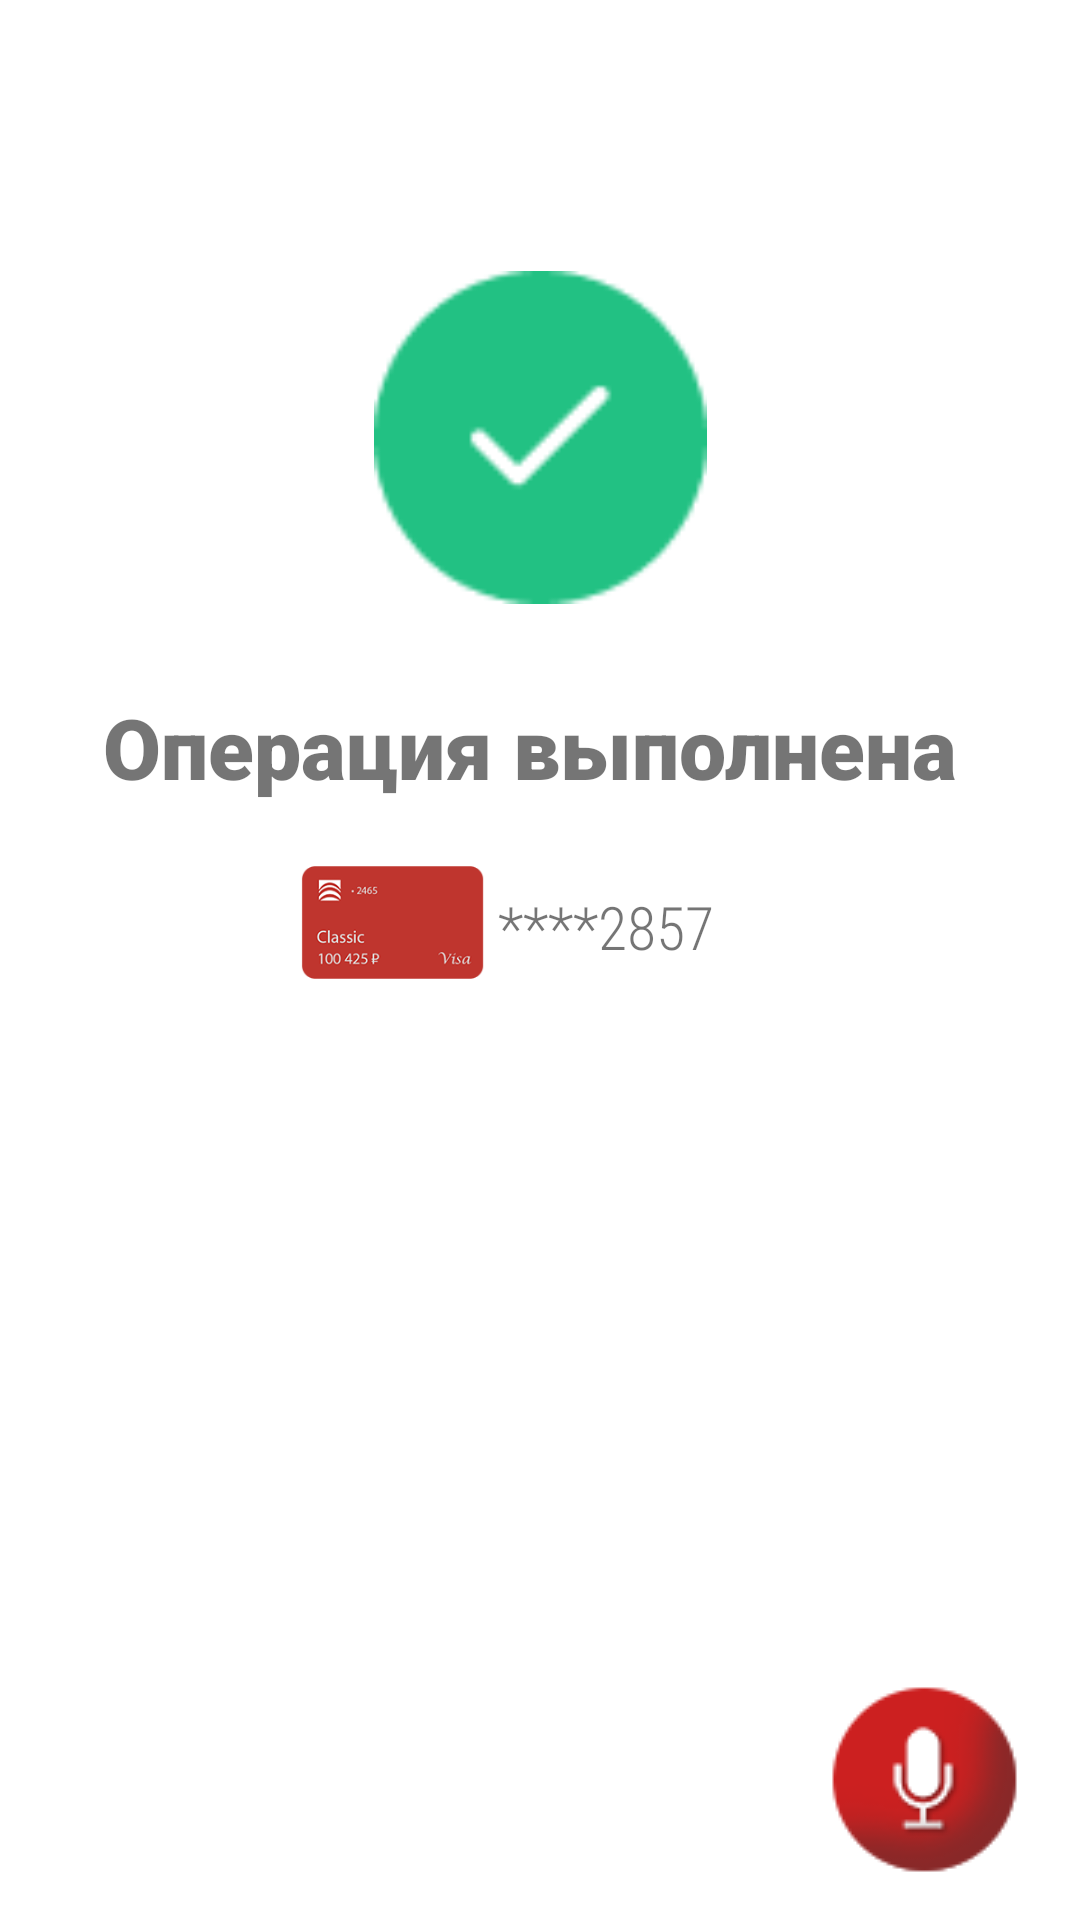

Screen size 1080px×1920px. Icon name, then its center in pixels as [x,y]:
galoshka: [540,437]
